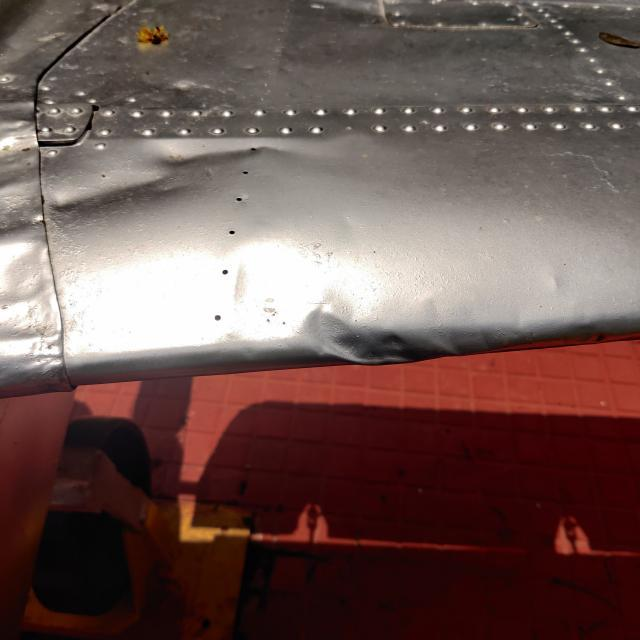dent: (36, 117, 298, 250), (312, 288, 442, 386)
